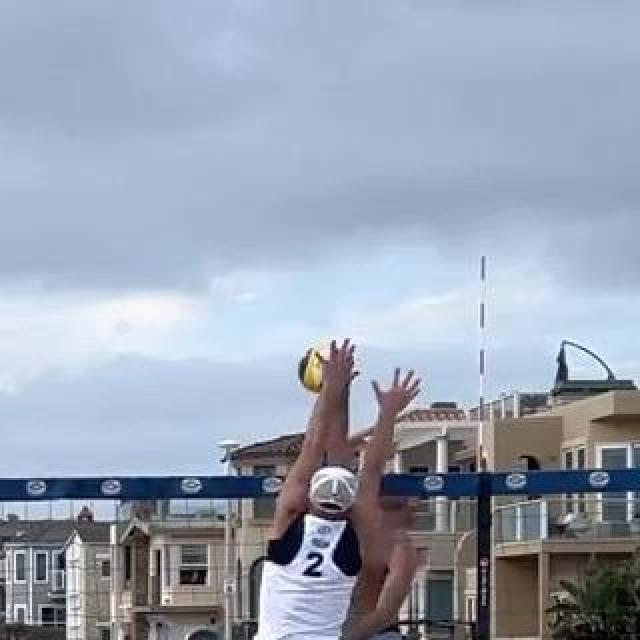volleyball: (298, 346, 346, 392)
